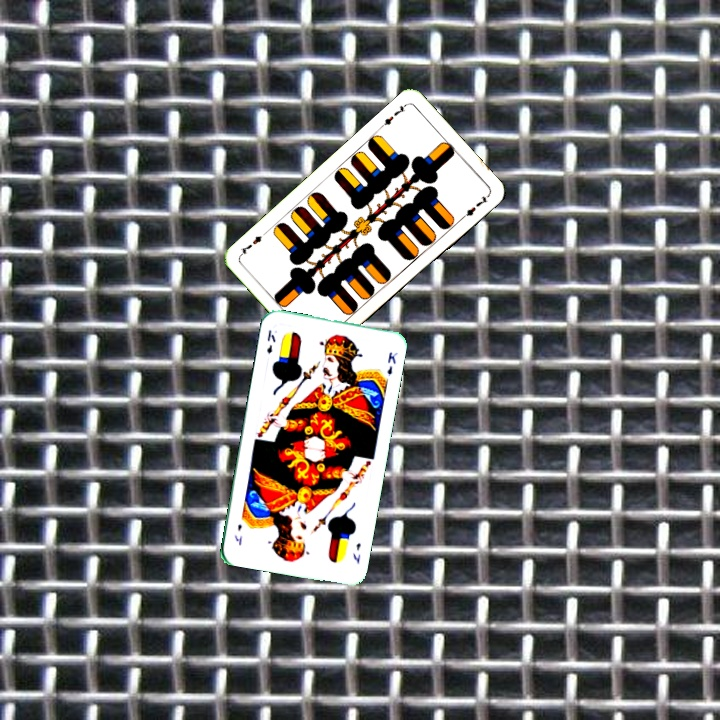E7: (376, 100, 409, 131)
EK: (263, 326, 278, 356), (349, 539, 363, 566)
